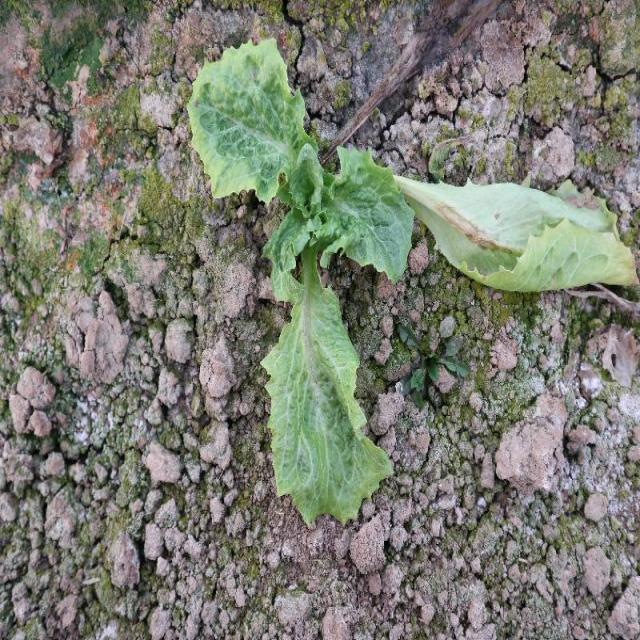crop: (187, 39, 640, 532)
